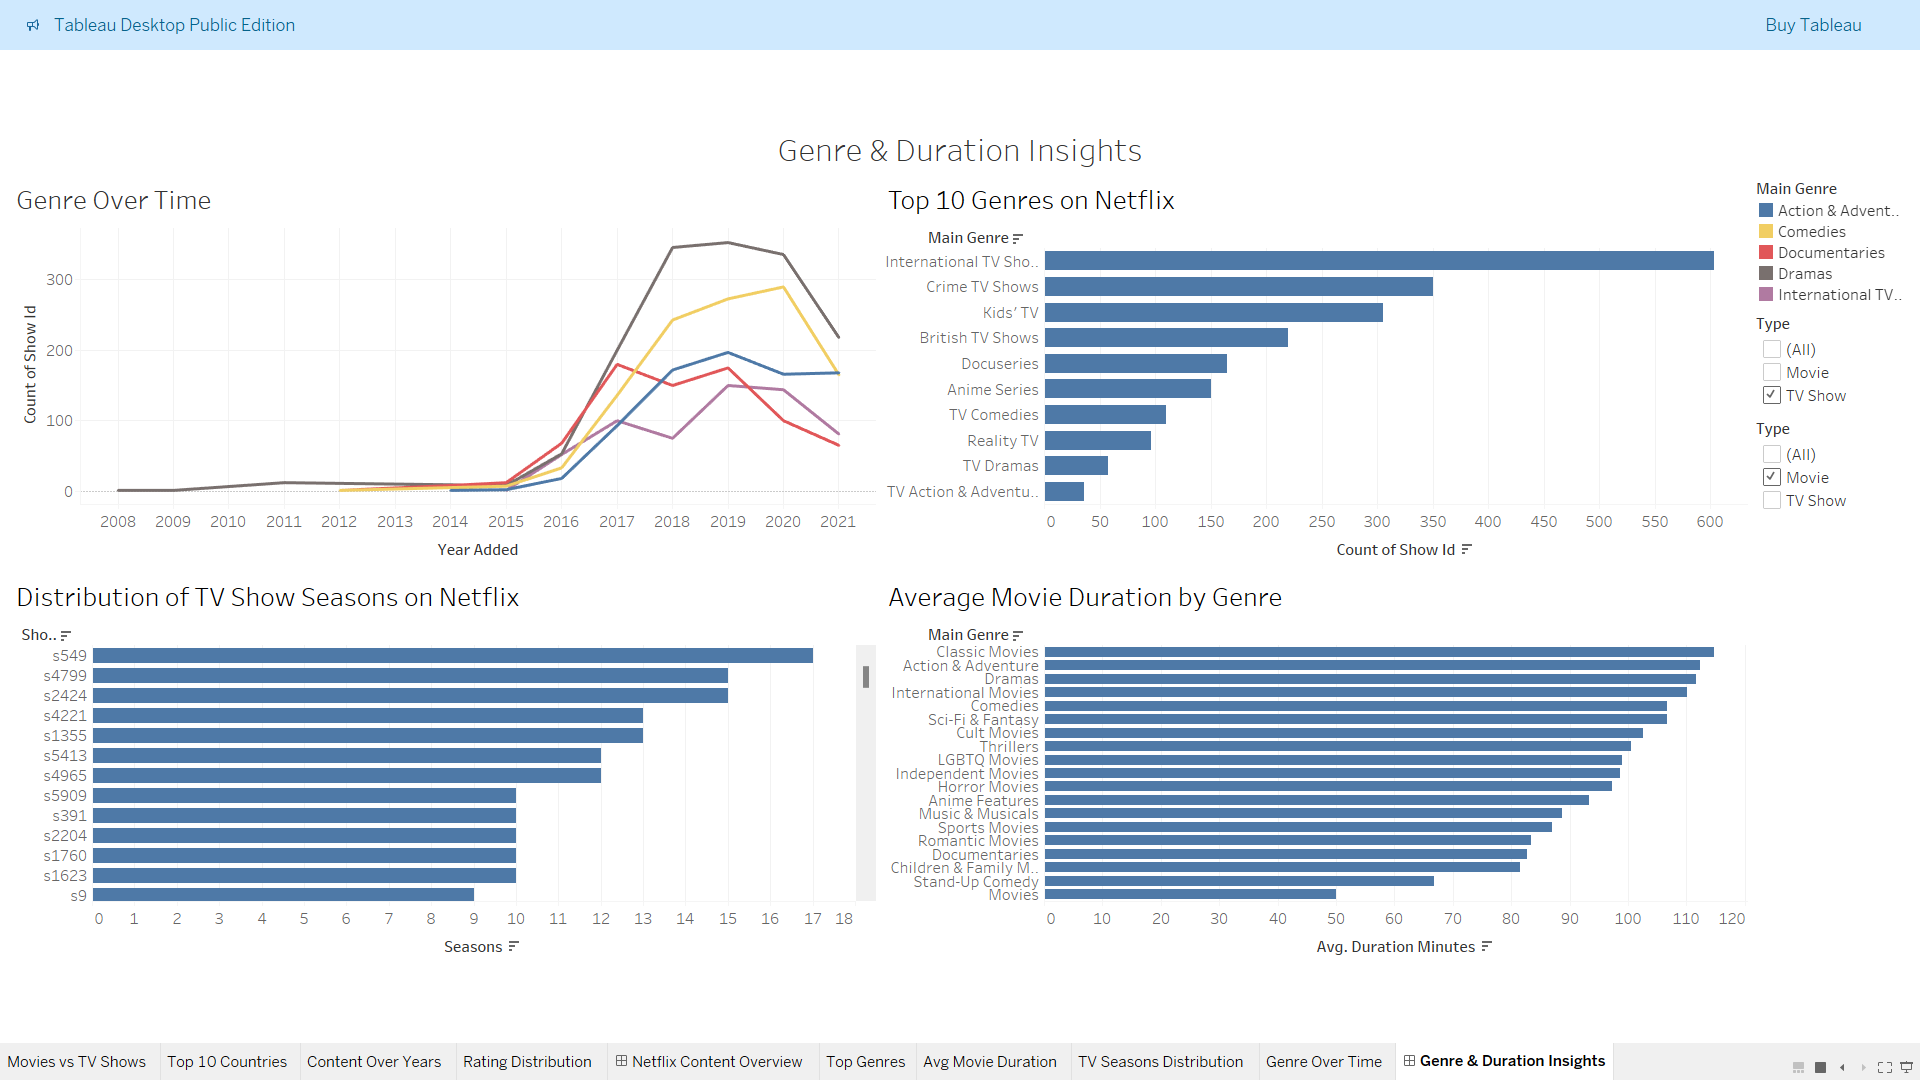

The dashboard page shown, as its layout file describes it:
{"tool":"tableau","page":{"name":"Genre & Duration Insights","canvas":[1000,1000],"units":"permille","ordinal":0},"visuals":[{"type":"title","box":[4.2,9.3,991.7,58.1]},{"type":"worksheet","title":"Genre Over Time","mark":"Automatic","rows":["show_id"],"cols":["year_added"],"box":[4.2,67.4,454.1,461.6]},{"type":"worksheet","title":"Top Genres","mark":"Automatic","rows":["Calculation_171418263162626048"],"cols":["show_id"],"box":[458.2,67.4,454.3,461.6]},{"type":"legend","title":"Genre Over Time","param":"[federated.05povaf08etz501a1ydig1cd7vbr].[none:Calculation_171418263162626048:nk","box":[912.5,67.4,83.3,157]},{"type":"filter","title":"TV Seasons Distribution","param":"[federated.05povaf08etz501a1ydig1cd7vbr].[none:type:nk]","box":[912.5,224.4,83.3,122.1]},{"type":"filter","title":"Avg Movie Duration","param":"[federated.05povaf08etz501a1ydig1cd7vbr].[none:type:nk]","box":[912.5,346.5,83.3,122.1]},{"type":"worksheet","title":"TV Seasons Distribution","mark":"Automatic","rows":["show_id"],"cols":["Calculation_171418263162961922"],"box":[4.2,529.1,454.1,461.6]},{"type":"worksheet","title":"Avg Movie Duration","mark":"Automatic","rows":["Calculation_171418263162626048"],"cols":["Calculation_171418263162802177"],"box":[458.2,529.1,454.3,461.6]}]}

Visuals, with their boxes on the dashboard's canvas, which has no fixed pixel size, in thousandths of its width and height (x1, y1, x2, y2). These are canvas units, not pixel positions in the 1920x1080 screenshot, which may show the page scaled, cropped or inside an application window:
title: box(4, 9, 996, 67)
"Genre Over Time" worksheet: box(4, 67, 458, 529)
"Top Genres" worksheet: box(458, 67, 912, 529)
"Genre Over Time" legend: box(912, 67, 996, 224)
"TV Seasons Distribution" filter: box(912, 224, 996, 346)
"Avg Movie Duration" filter: box(912, 346, 996, 469)
"TV Seasons Distribution" worksheet: box(4, 529, 458, 991)
"Avg Movie Duration" worksheet: box(458, 529, 912, 991)
